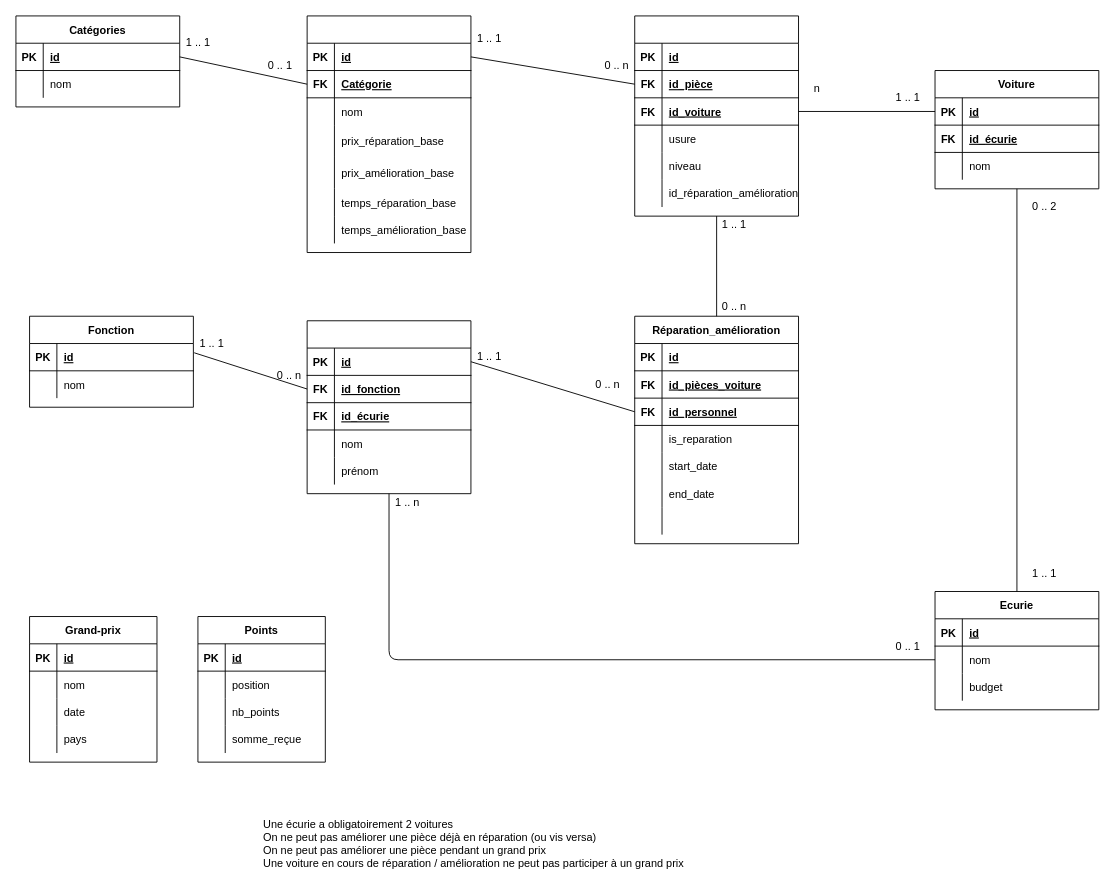
The diagram is 1115 pixels wide and 887 high, and some of its shapes have lost their labels. Here are the shapes that lost their labels. From the top down, the box of each, then its label:
(306, 15, 471, 253): Pièces
(634, 15, 799, 216): Pièces_Voiture
(306, 320, 471, 494): Personnel
